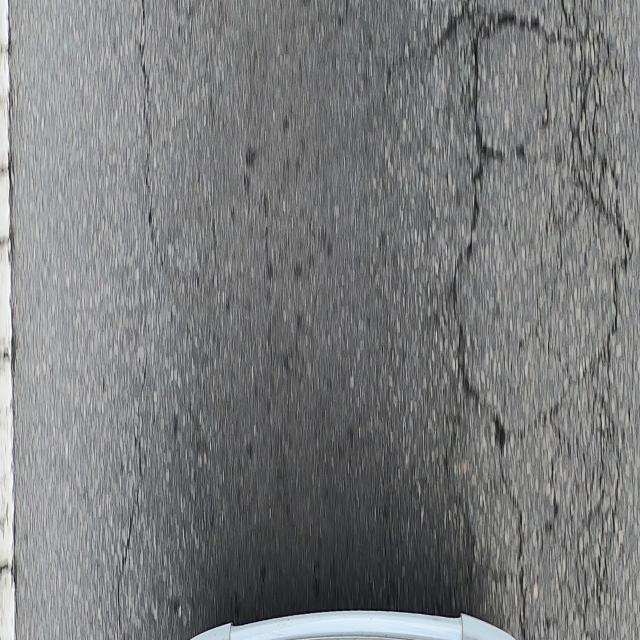Retak-Buaya: (426, 3, 629, 632)
Retak-Memanjang: (115, 350, 148, 635), (138, 3, 153, 251)
